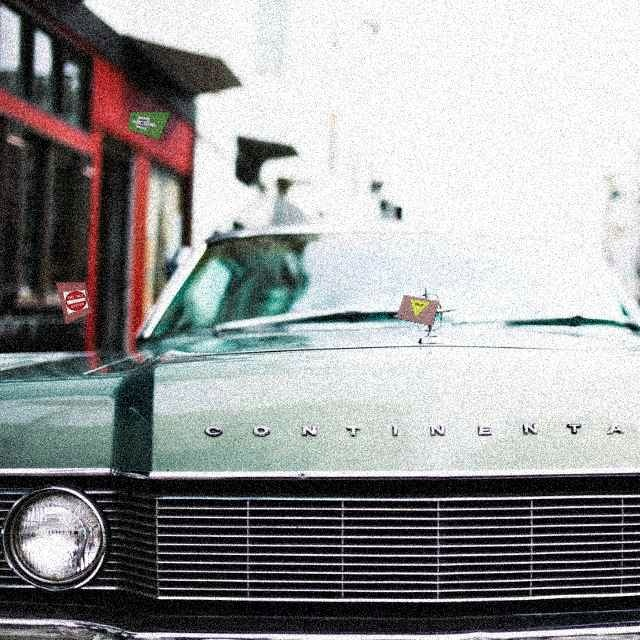DO_NOT_ENTER: (63, 287, 89, 315)
DO_NOT_GO_AROUND: (130, 115, 160, 133)
YIELD: (405, 297, 431, 321)
